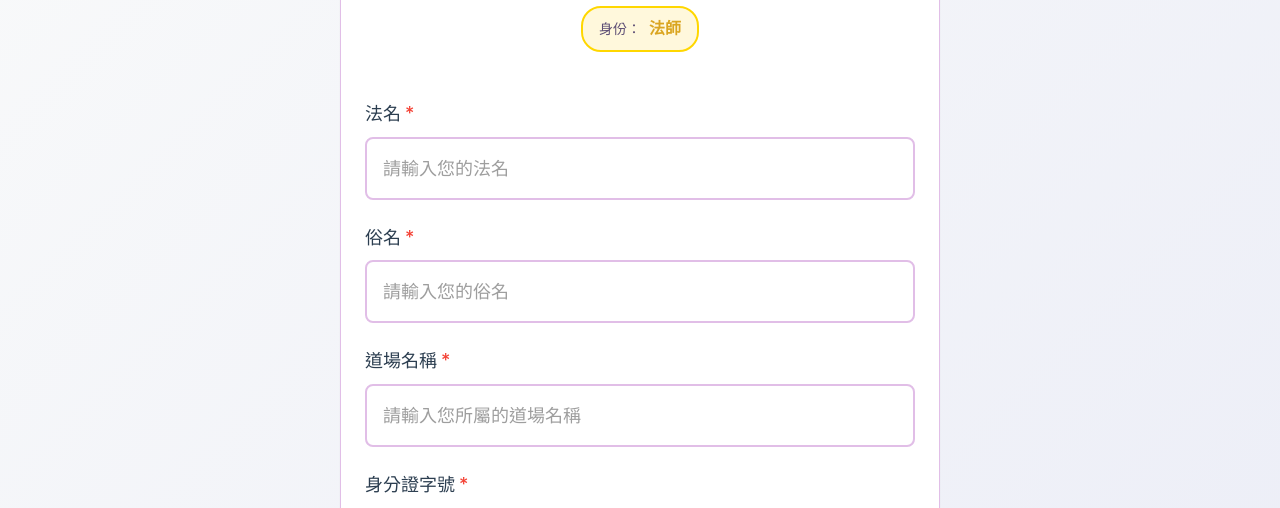
it: PersonalInfoForm › Form Actions › should clear form when clear button is clicked
// Fill in some data
Type "王小明" into the field labelled "俗名*". click: coordinates (640, 292)
box: x1=365 y1=260 x2=915 y2=323
(page scrolled)
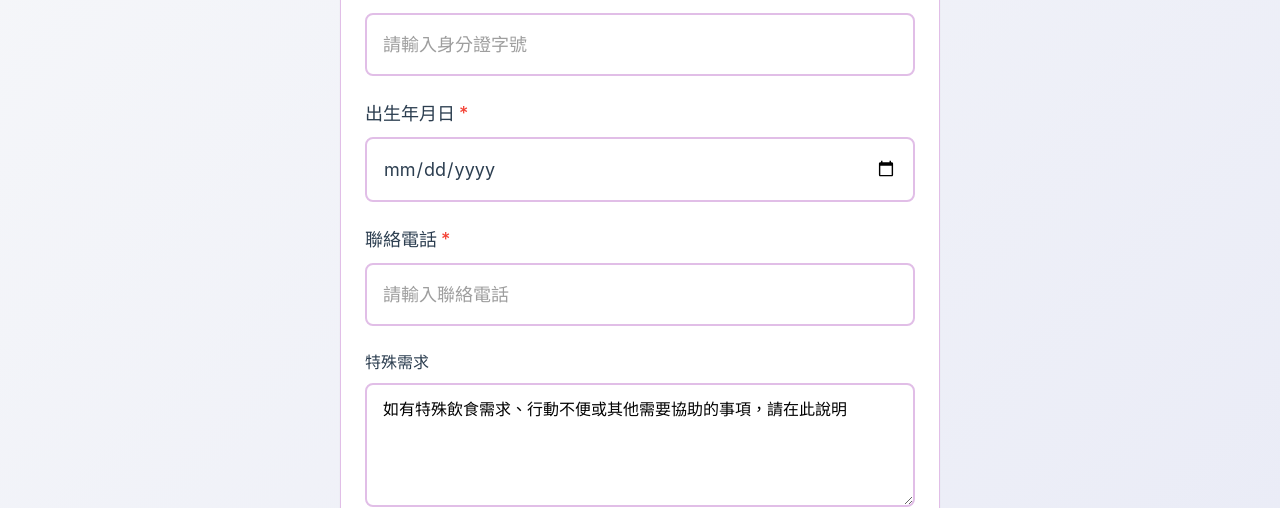
Type "0912345678" into the field labelled "聯絡電話*". click: coordinates (640, 294)
box: x1=365 y1=263 x2=915 y2=326
(page scrolled)
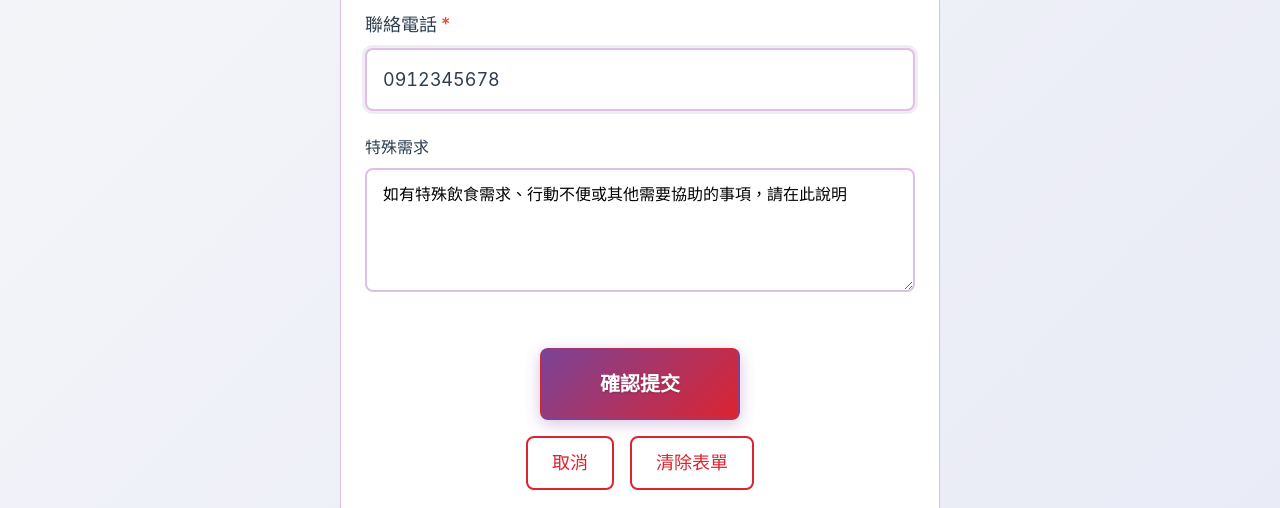
Click the button "清除表單". click: coordinates (692, 463)
box: x1=630 y1=436 x2=754 y2=490
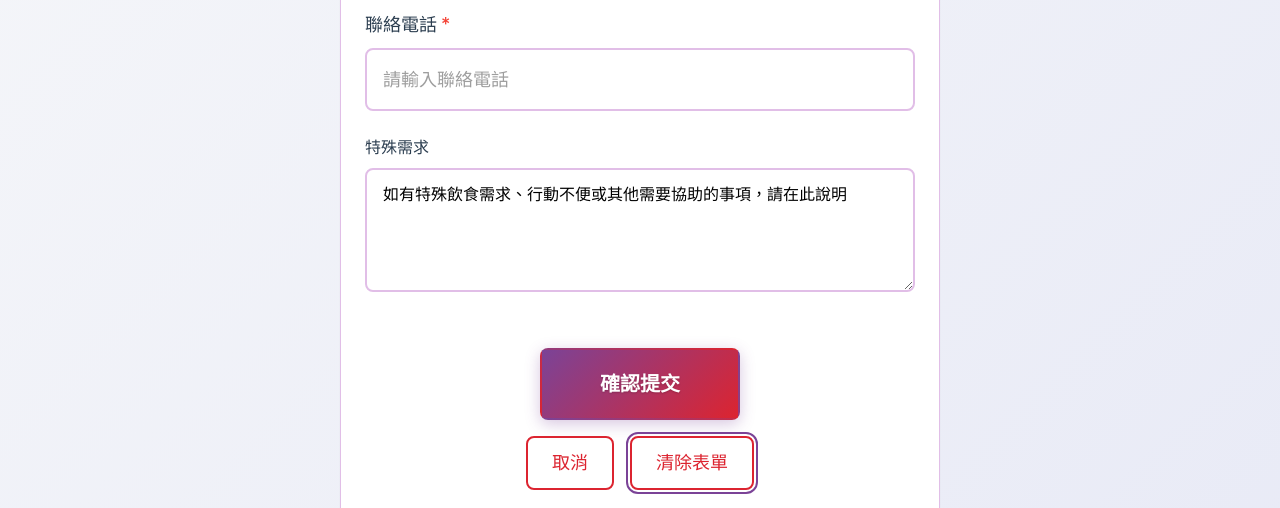
Expected: the field labelled "聯絡電話*" is empty, x1=365 y1=48 x2=915 y2=111
